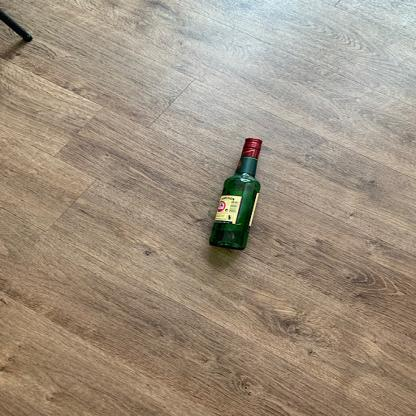trash: (209, 138, 264, 252)
